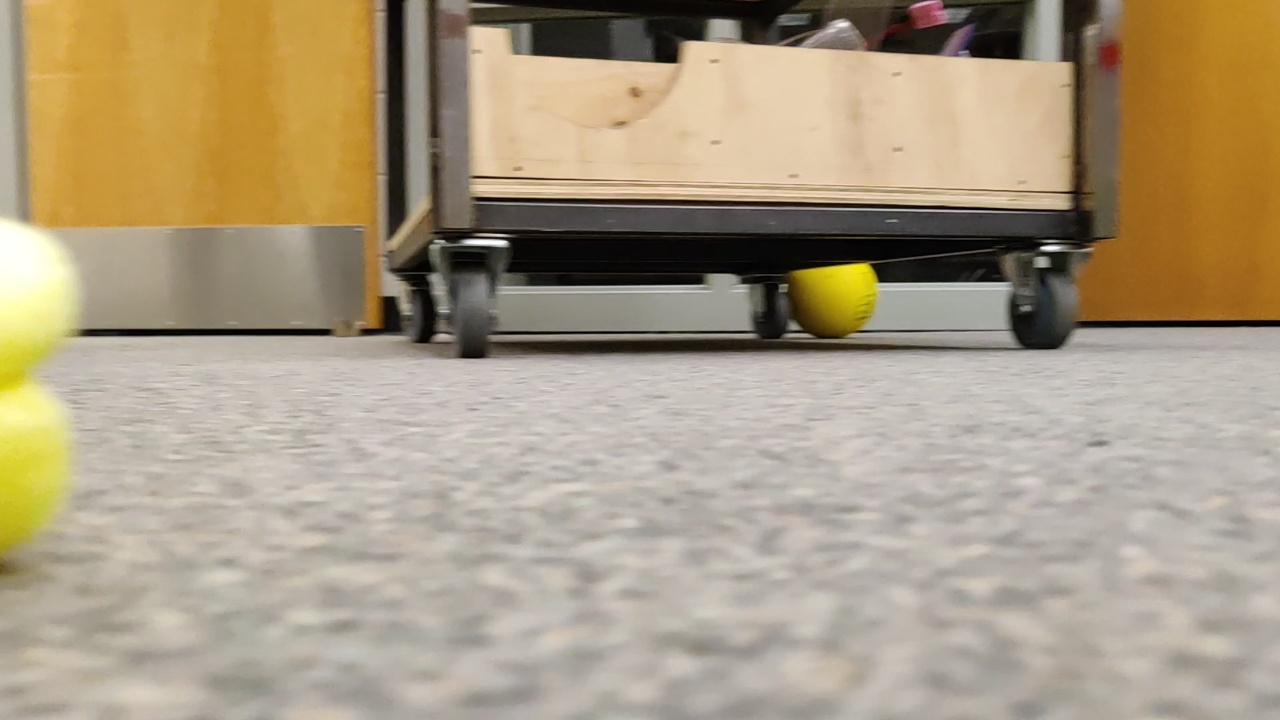Ball: (773, 253, 880, 339)
